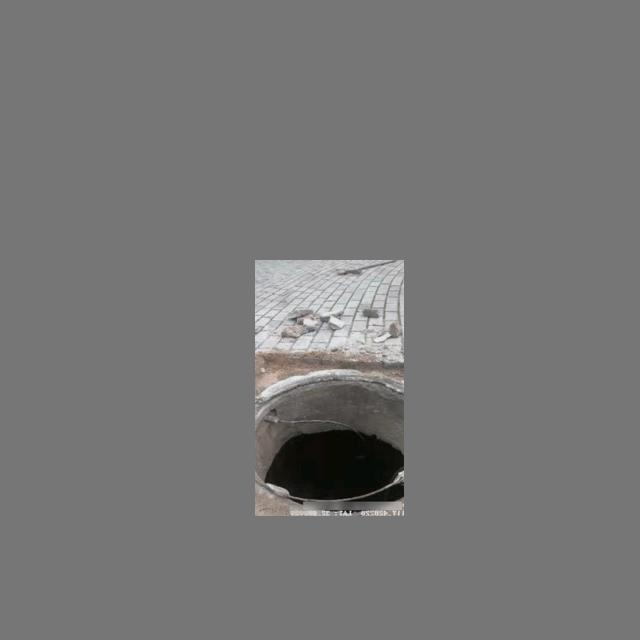lose: (255, 372, 404, 506)
